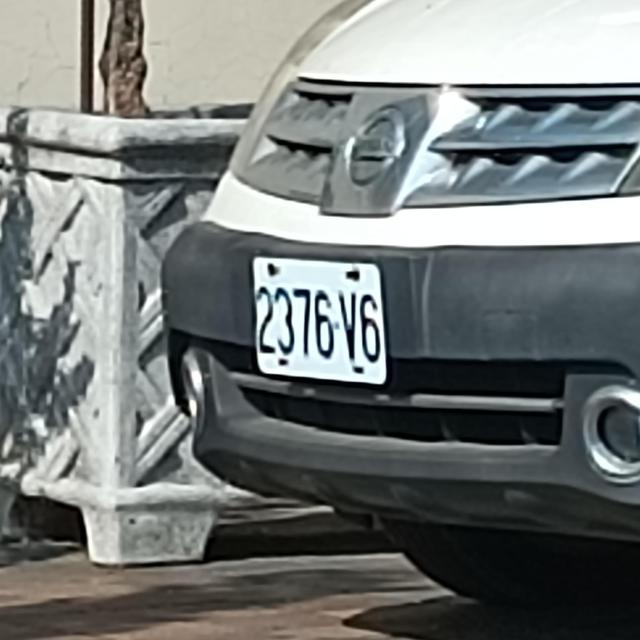W: (250, 254, 398, 387)
